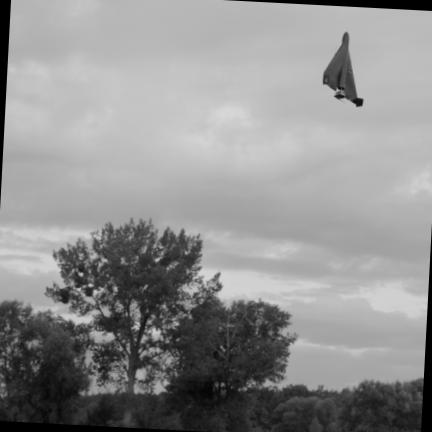Shahed: (323, 33, 363, 106)
